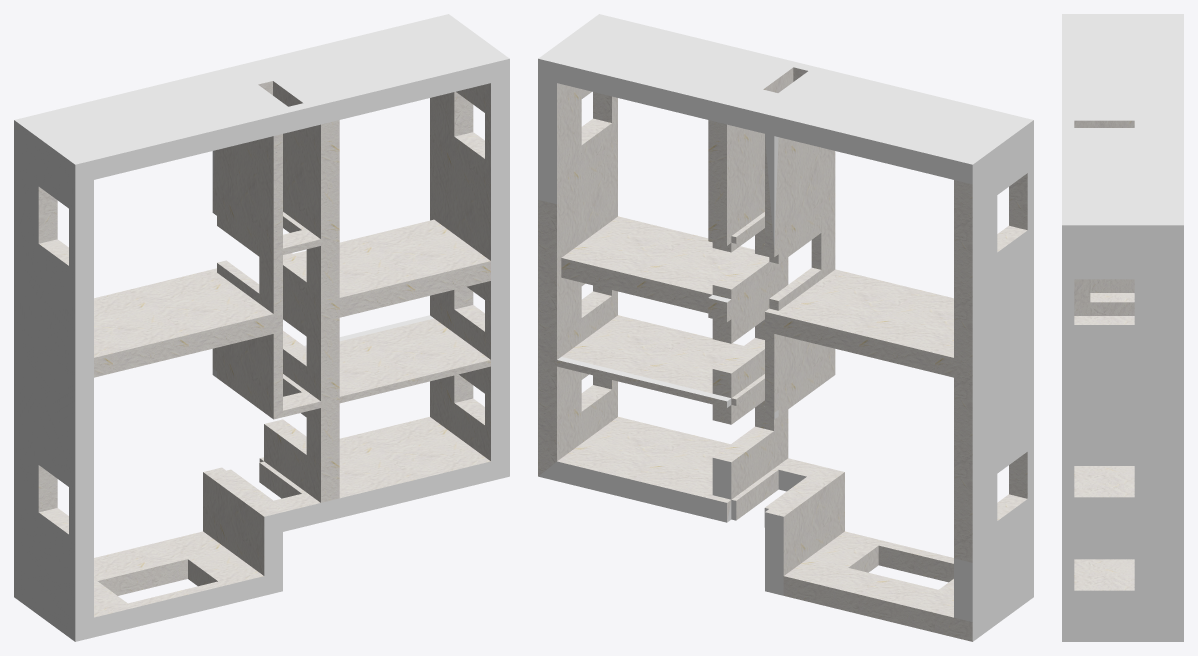
The model's file is Homework3.obj.
3 renders of one model, left to right at view 1: azimuth 30°, elevation 25°; view 2: azimuth 150°, elevation 25°; view 3: azimuth 270°, elevation 25°, orthographic.
Visible parts, largest first — view 1: Internal_testMIO.001, Walls_testMIO; view 2: Internal_testMIO.001, Walls_testMIO; view 3: Walls_testMIO, Internal_testMIO.001.
Boxes of the visible parts, bbox=[...] form: Internal_testMIO.001: bbox=[38, 81, 490, 617]; Walls_testMIO: bbox=[14, 14, 509, 641]; Internal_testMIO.001: bbox=[538, 67, 1027, 641]; Walls_testMIO: bbox=[538, 14, 1033, 641]; Walls_testMIO: bbox=[1062, 14, 1183, 641]; Internal_testMIO.001: bbox=[1074, 120, 1134, 590].
Size of the model in its own units: 11.5 by 12.07 by 2.8.
2 materials, 1 textured.
